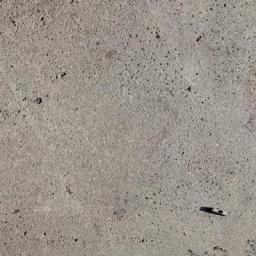FOD: (197, 204, 232, 219)
